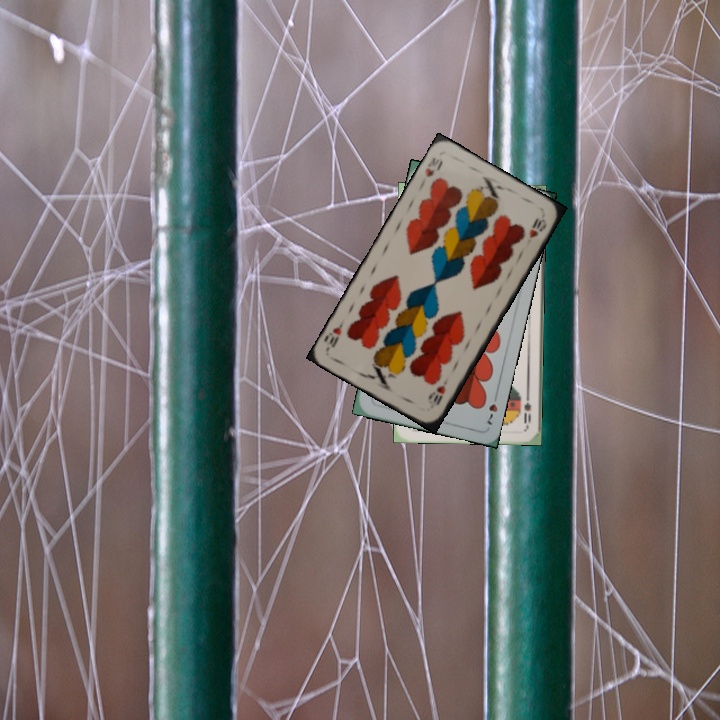H10: (429, 374, 451, 408), (421, 153, 445, 180)
H7: (483, 389, 500, 427)
SO: (520, 388, 534, 429)
